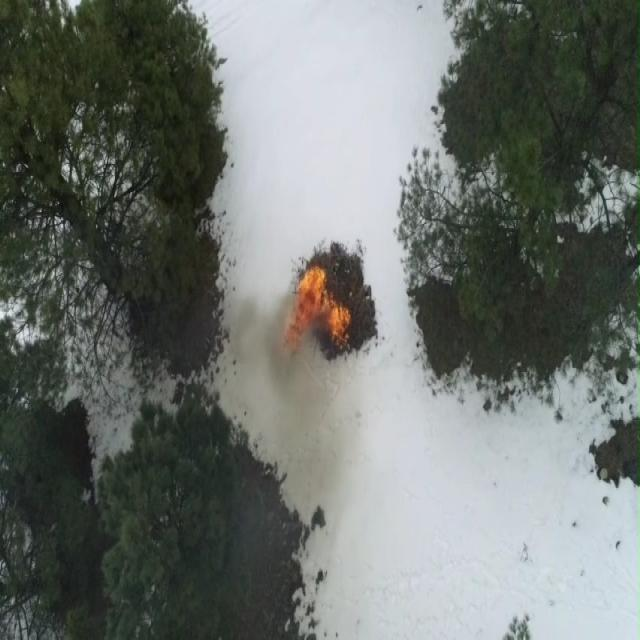Fire: (286, 266, 350, 344)
Smoke: (233, 300, 314, 382)
